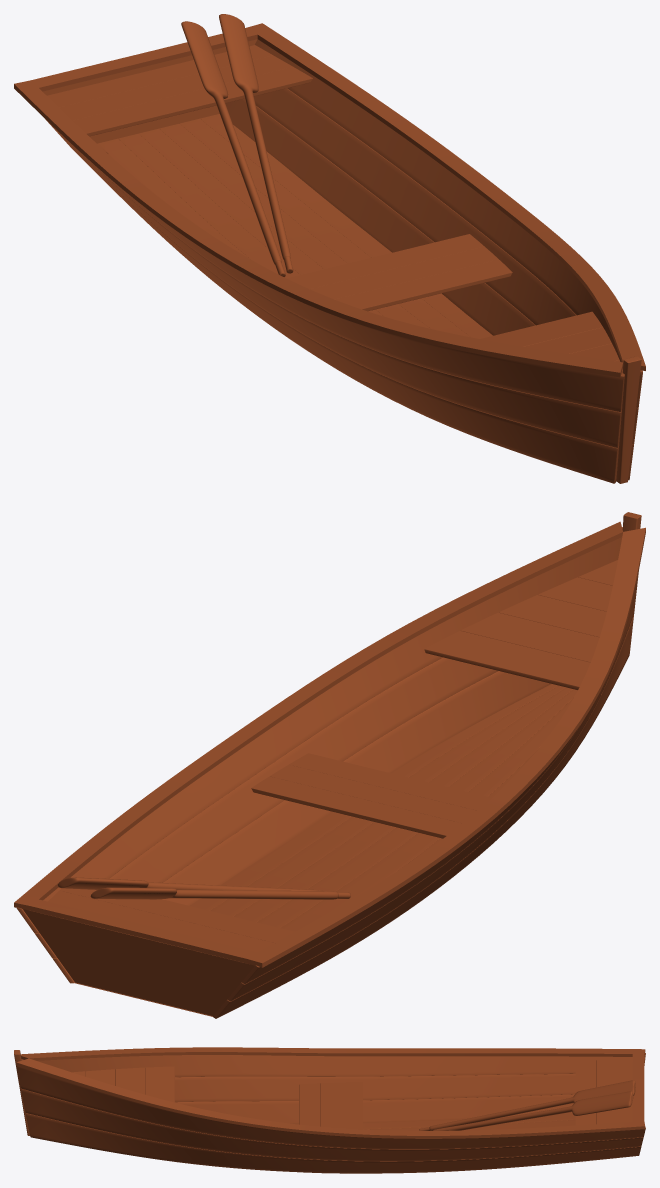
File: boat2.obj
3 renders of one model, top to bottom at view 1: azimuth 30°, elevation 25°; view 2: azimuth 150°, elevation 25°; view 3: azimuth 270°, elevation 25°, orthographic. The views are drawn at different scales.
Parts seen in each view (by area): view 1: body_1_Cube.004, board_Cube.013, bottom_mesh, bench_2_Plane.002, bench_1_Plane.005, paddle_2_Cube.005, bench_3_Plane.003, paddle_1_Cube, body_2_Cube.002, the_bow_of_the_boat_Cube.003; view 2: body_1_Cube.004, board_Cube.013, bottom_mesh, bench_3_Plane.003, body_2_Cube.002, bench_1_Plane.005, bench_2_Plane.002, paddle_1_Cube, paddle_2_Cube.005; view 3: body_1_Cube.004, board_Cube.013, bench_1_Plane.005, bench_2_Plane.002, bench_3_Plane.003, paddle_2_Cube.005, bottom_mesh, paddle_1_Cube, the_bow_of_the_boat_Cube.003.
Part boxes in pixels (x1,y1,x2,y2): body_1_Cube.004: (45,39,642,483); board_Cube.013: (14,23,645,377); bottom_mesh: (97,114,492,338); bench_2_Plane.002: (47,45,312,136); bench_1_Plane.005: (287,234,512,311); paddle_2_Cube.005: (219,14,293,273); bench_3_Plane.003: (480,311,622,373); paddle_1_Cube: (181,21,285,276); body_2_Cube.002: (43,39,257,143); the_bow_of_the_boat_Cube.003: (616,356,641,483); body_1_Cube.004: (16,527,638,1018); board_Cube.013: (14,521,645,967); bottom_mesh: (75,684,577,1016); bench_3_Plane.003: (424,560,617,689); body_2_Cube.002: (23,909,254,1016); bench_1_Plane.005: (251,753,491,838); bench_2_Plane.002: (48,888,295,952); paddle_1_Cube: (90,887,350,899); paddle_2_Cube.005: (57,877,322,890); body_1_Cube.004: (16,1053,645,1173); board_Cube.013: (16,1047,645,1138); bench_1_Plane.005: (299,1082,362,1129); bench_2_Plane.002: (575,1059,632,1125); bench_3_Plane.003: (72,1066,174,1102); paddle_2_Cube.005: (431,1091,633,1130); bottom_mesh: (303,1113,575,1173); paddle_1_Cube: (419,1080,635,1130); the_bow_of_the_boat_Cube.003: (14,1050,29,1135).
Size of the model in its own units: 1.5 by 0.7715 by 4.57.
